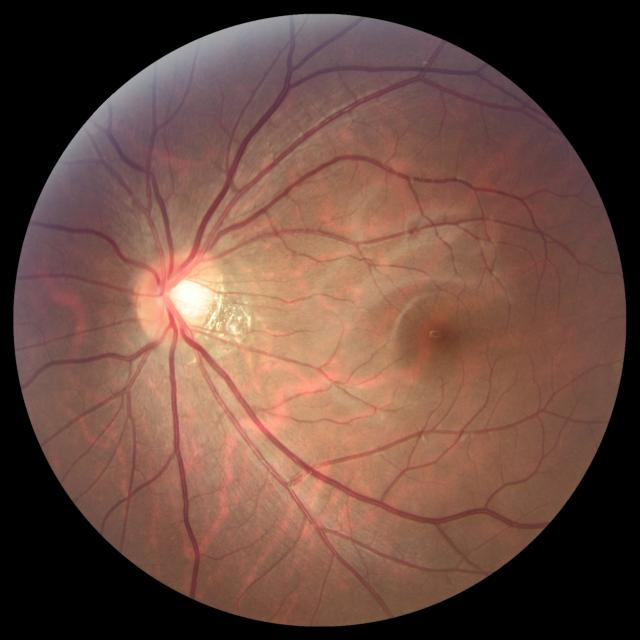OC: (163, 274, 208, 322)
OD: (134, 248, 223, 343)
